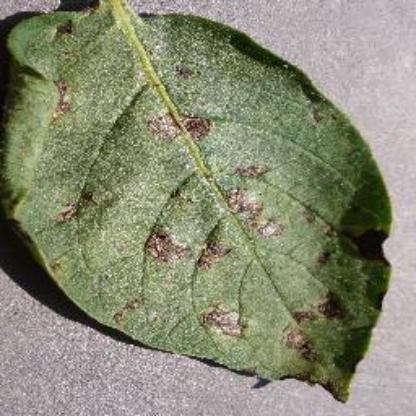Early-Blight: (2, 1, 384, 400)
